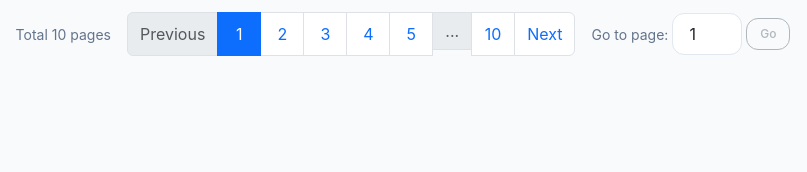
Pagination Component › Jump button (Issue #1433) › should enable jump button for valid page number
This screenshot has width=807, height=172.
Replace the text in the number field named "Go to page" with "5" at coordinates (707, 34), box [672,13,742,55]
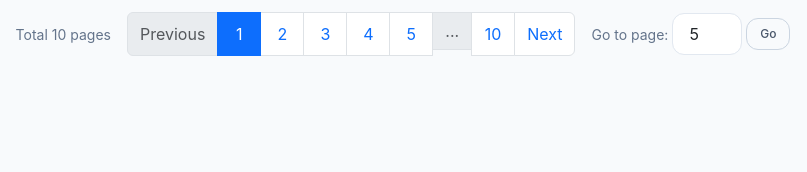
Result: the button with aria-label "Go to specified page" is enabled at [746,18,790,50]
